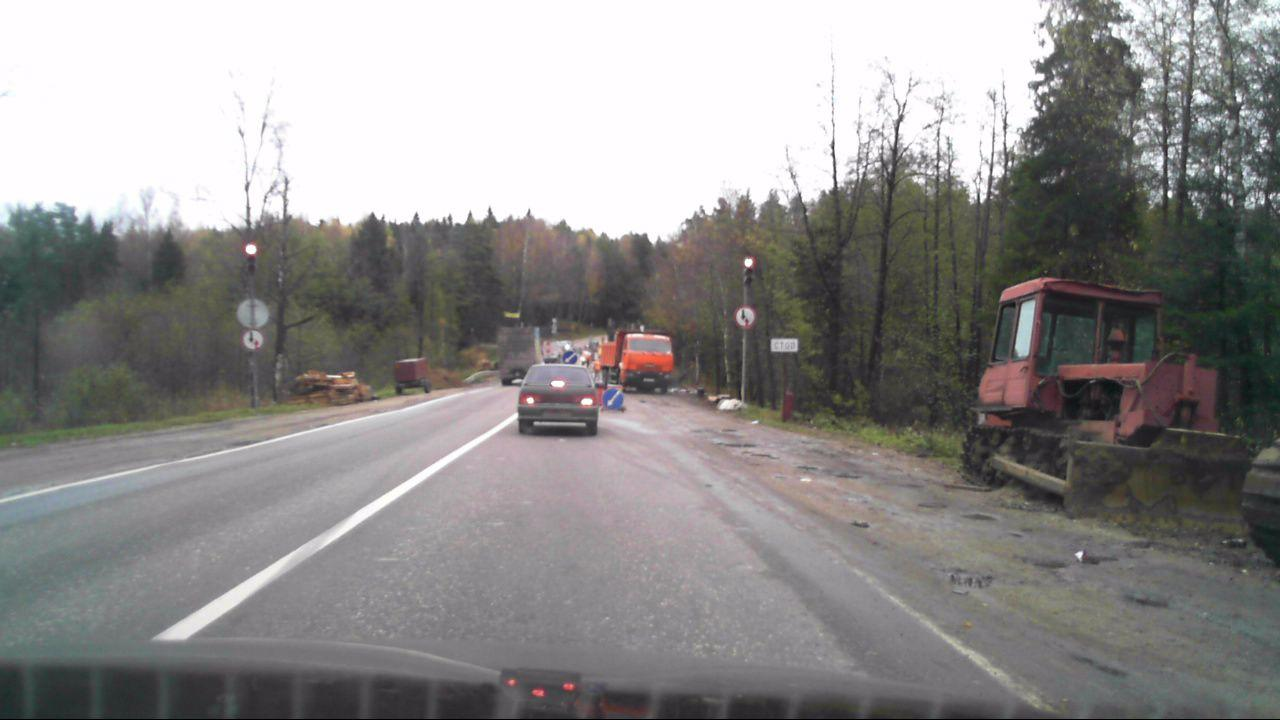2_6: (240, 330, 268, 352), (733, 305, 756, 328)
4_2_2: (603, 386, 627, 409), (563, 351, 579, 364)
6_16: (771, 338, 800, 352)
